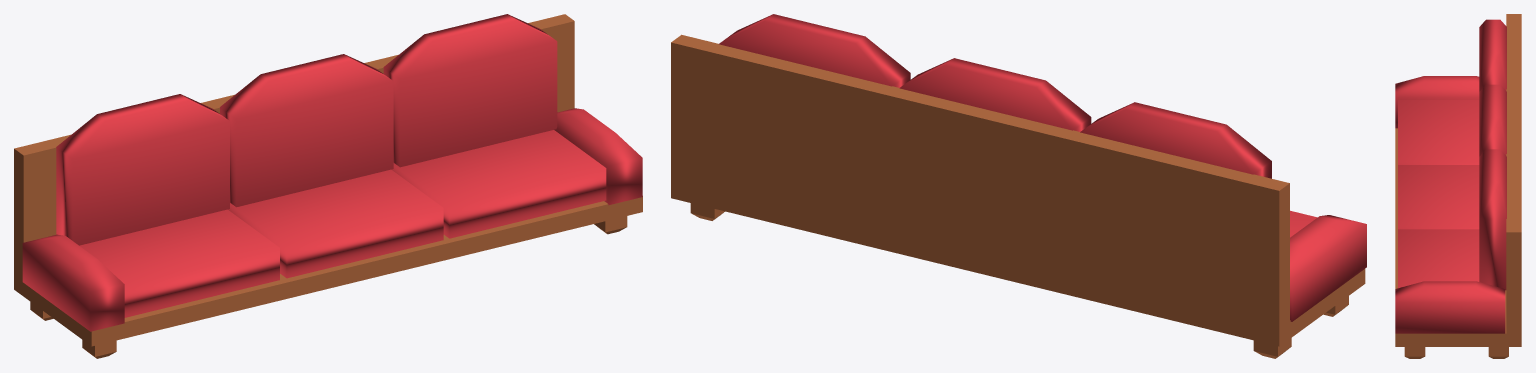
The model's file is Sofa.gltf.
The picture shows the model from 3 angles, left to right: view 1: azimuth 30°, elevation 25°; view 2: azimuth 150°, elevation 25°; view 3: azimuth 270°, elevation 25°; orthographic projection. The views are drawn at different scales.
Visible parts, largest first — view 1: Cube, Cube.002, Cube.001, Cube.006, Cube.005, Cube.004, Cube.003, Cube.007, Cube.008, Cube.009; view 2: Cube.006, Cube, Cube.002, Cube.001, Cube.007, Cube.009; view 3: Cube.006, Cube.008, Cube.003, Cube.005, Cube.004, Cube.002, Cube.007, Cube, Cube.001, Cube.009.
Boxes of the visible parts, left/top/right/bottom form: Cube: left=56, top=94, right=229, bottom=245; Cube.002: left=383, top=14, right=557, bottom=167; Cube.001: left=220, top=54, right=393, bottom=207; Cube.006: left=14, top=14, right=642, bottom=346; Cube.005: left=228, top=169, right=443, bottom=278; Cube.004: left=391, top=130, right=606, bottom=238; Cube.003: left=79, top=209, right=279, bottom=317; Cube.007: left=22, top=234, right=124, bottom=331; Cube.008: left=554, top=108, right=642, bottom=205; Cube.009: left=30, top=216, right=627, bottom=358; Cube.006: left=671, top=34, right=1365, bottom=346; Cube: left=1080, top=102, right=1271, bottom=178; Cube.002: left=719, top=14, right=910, bottom=87; Cube.001: left=899, top=58, right=1091, bottom=131; Cube.007: left=1290, top=215, right=1366, bottom=321; Cube.009: left=690, top=203, right=1348, bottom=358; Cube.006: left=1395, top=14, right=1521, bottom=346; Cube.008: left=1395, top=281, right=1505, bottom=333; Cube.003: left=1398, top=100, right=1479, bottom=164; Cube.005: left=1398, top=165, right=1479, bottom=229; Cube.004: left=1398, top=229, right=1479, bottom=288; Cube.002: left=1479, top=149, right=1506, bottom=290; Cube.007: left=1395, top=76, right=1479, bottom=128; Cube: left=1479, top=19, right=1506, bottom=91; Cube.001: left=1479, top=84, right=1506, bottom=156; Cube.009: left=1404, top=347, right=1508, bottom=358.
Size of the model in its own units: 10.09 by 3.32 by 2.46.
